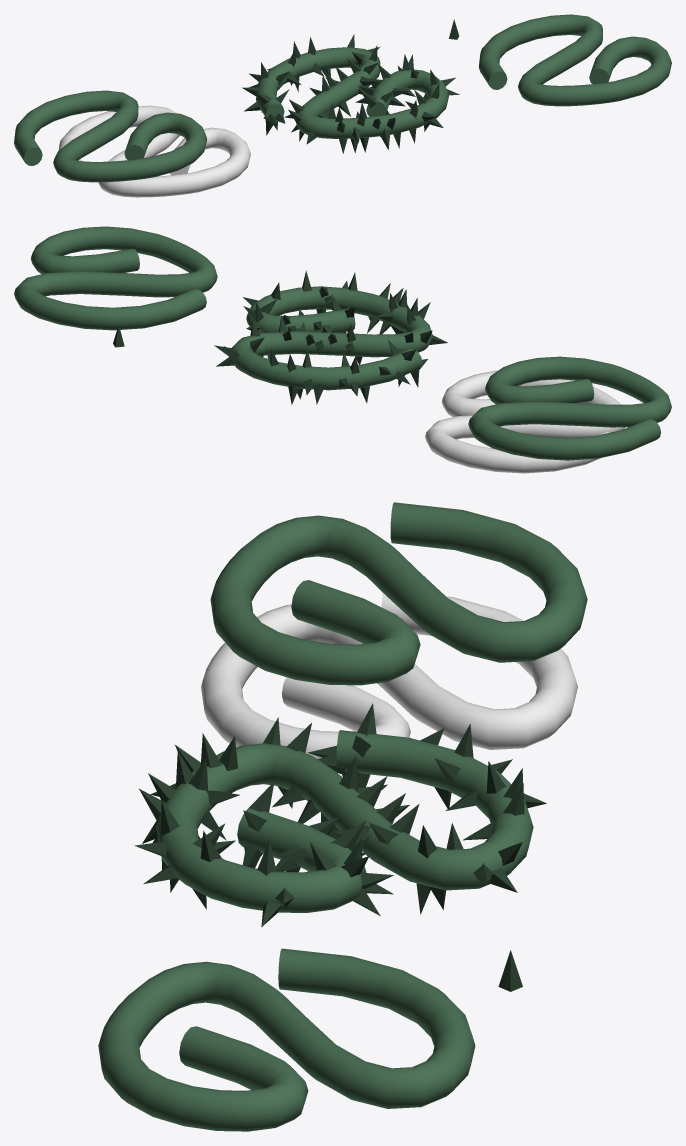
Rendered from thorns.glb.
3 renders of one model, top to bottom at view 1: azimuth 30°, elevation 25°; view 2: azimuth 150°, elevation 25°; view 3: azimuth 270°, elevation 25°, orthographic. The views are drawn at different scales.
Visible parts, largest first — view 1: BézierCurve, BézierCurve.002, BézierCurve.003, BézierCurve.001; view 2: BézierCurve, BézierCurve.003, BézierCurve.002, BézierCurve.001; view 3: BézierCurve, BézierCurve.003, BézierCurve.002, BézierCurve.001.
Boxes of the visible parts, x1,y1,x2,y2 form: BézierCurve: (242, 34, 459, 153); BézierCurve.002: (479, 14, 671, 106); BézierCurve.003: (14, 90, 206, 182); BézierCurve.001: (58, 105, 250, 197); BézierCurve: (214, 270, 447, 404); BézierCurve.003: (468, 356, 671, 460); BézierCurve.002: (14, 226, 217, 330); BézierCurve.001: (425, 370, 624, 473); BézierCurve: (134, 703, 546, 926); BézierCurve.003: (210, 502, 587, 685); BézierCurve.002: (98, 948, 475, 1131); BézierCurve.001: (201, 593, 577, 758).
Bounding box in the file's own units: 0.3375 × 0.029 × 0.1192.
